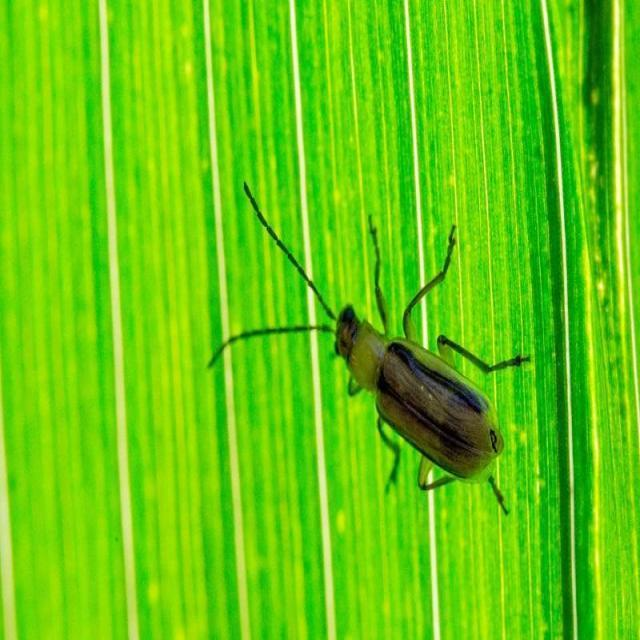trips: (208, 180, 532, 518)
